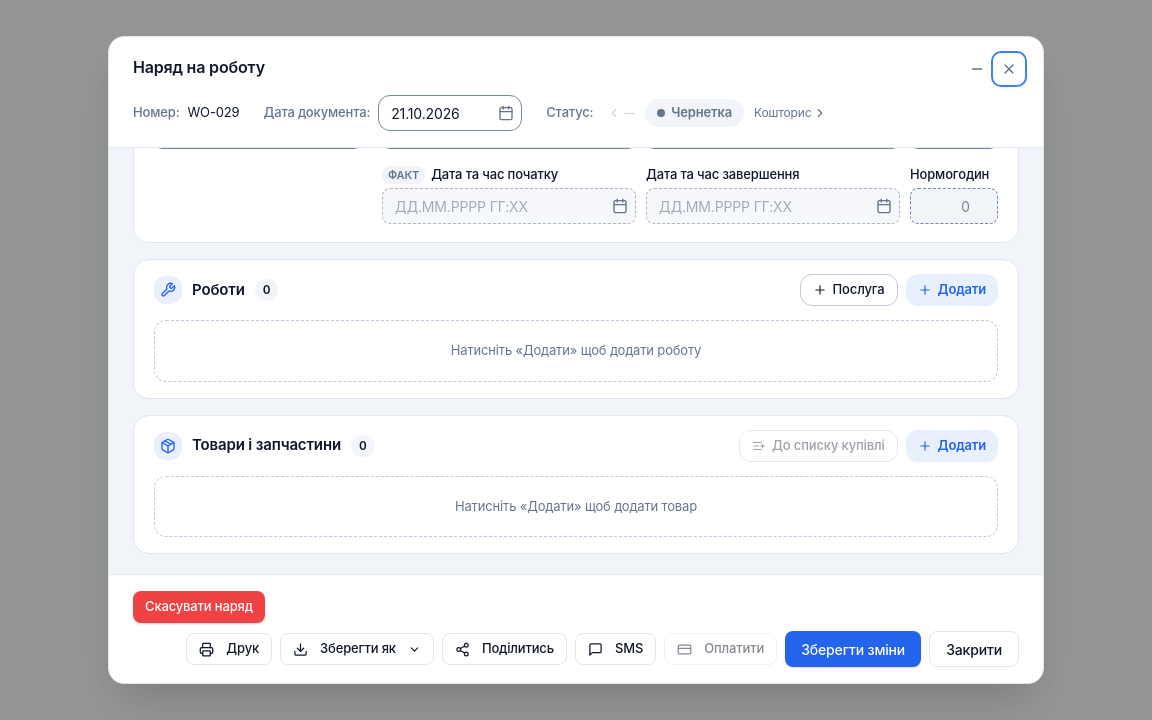
Scenario: CreateWorkOrderModal — склад рядка товару (BR-WO-029) › вільна лише на одному (неосновному) → він
(page scrolled)
Expected: the text "Натисніть «Додати» щоб додати товар" is shown, [154,476,998,537]
Click the button "Додати" in the row of "Товари і запчастини": (952, 446) [906,430,998,462]
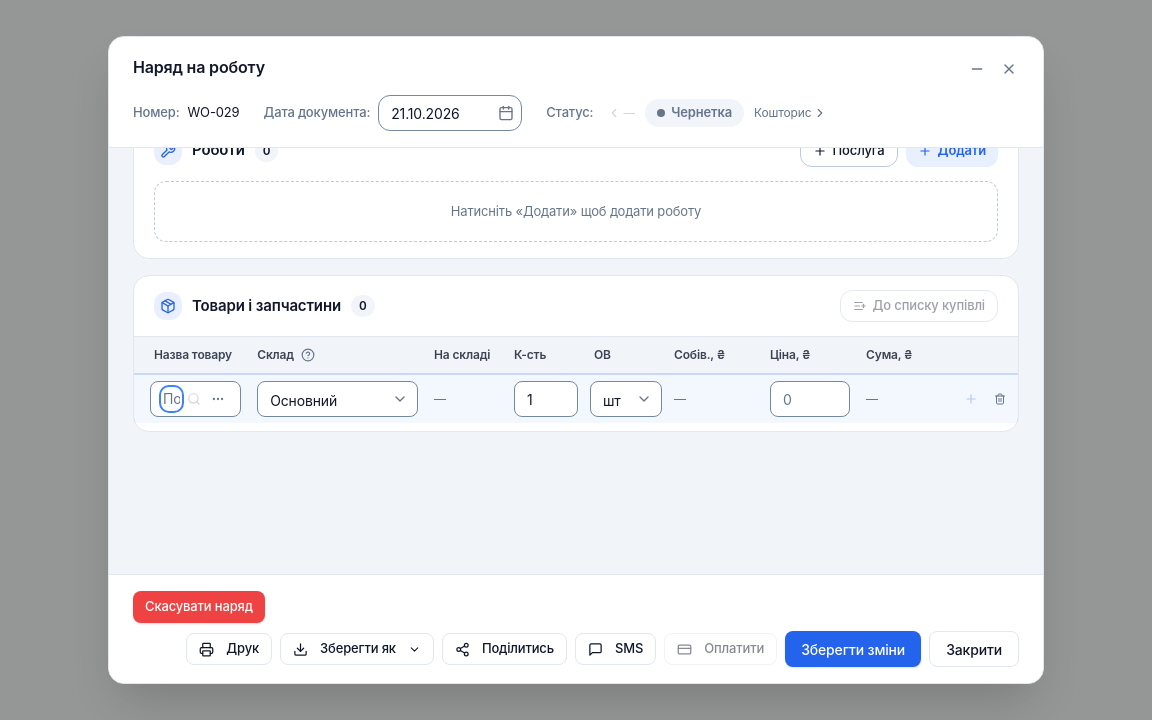
In the dropdown labelled "товар": (172, 399) [163,389,180,409], type "Фільтр л"
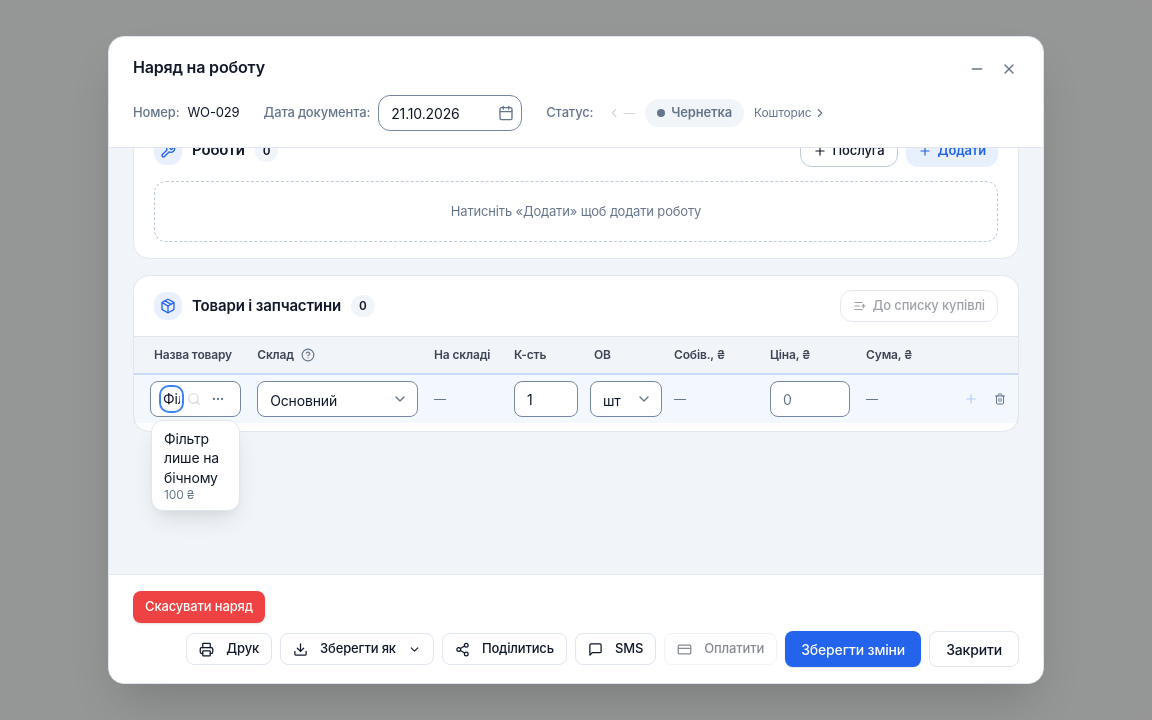
Click the option "Фільтр лише на бічному 100 ₴": (192, 466) [164,430,219,502]
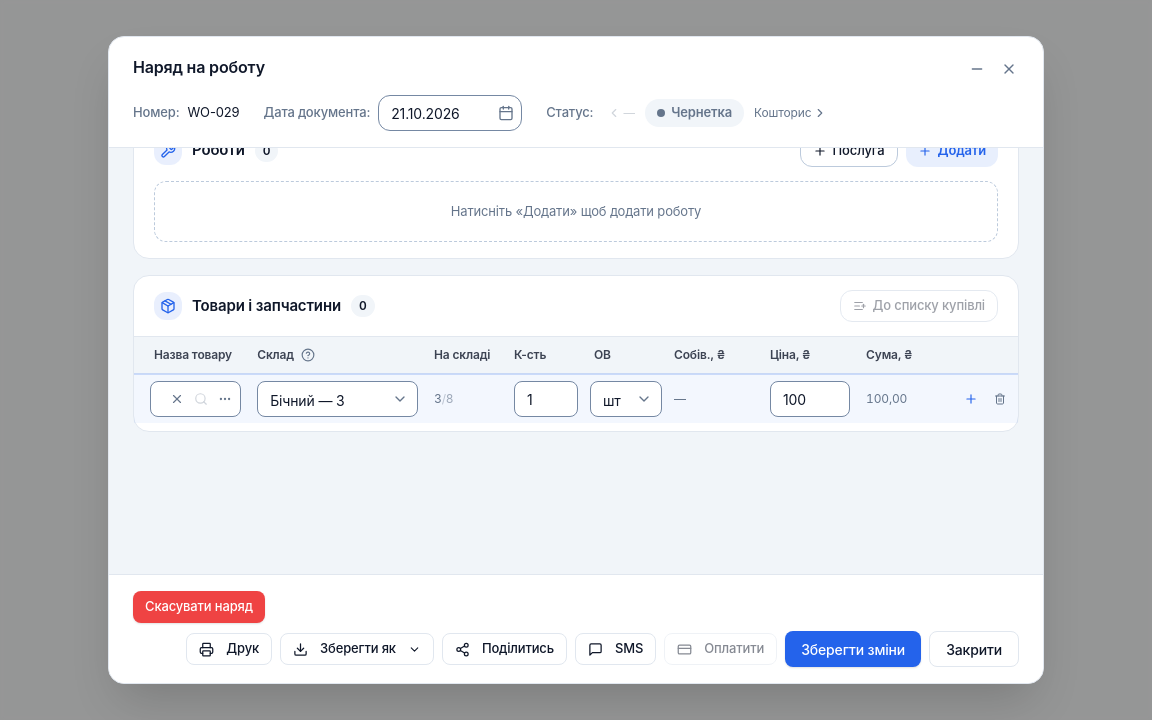
Now the dropdown named "Склад" shows "Бічний — 3", box [257,381,418,417]
Now the button titled "Зберегти рядок" is enabled, box [960,388,982,410]
